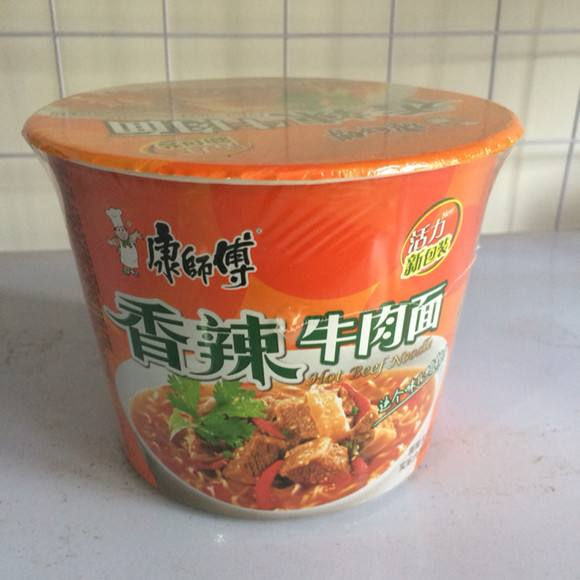xiangla: (20, 77, 526, 522)
